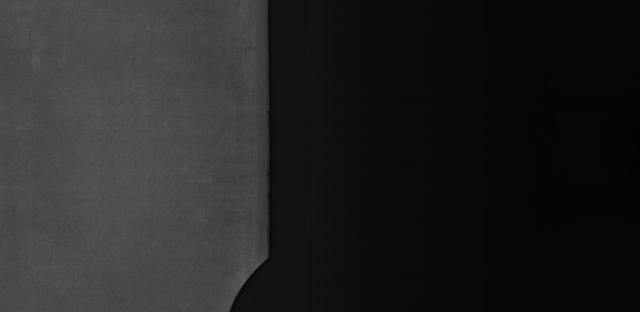crescent_gap: (213, 245, 291, 312)
